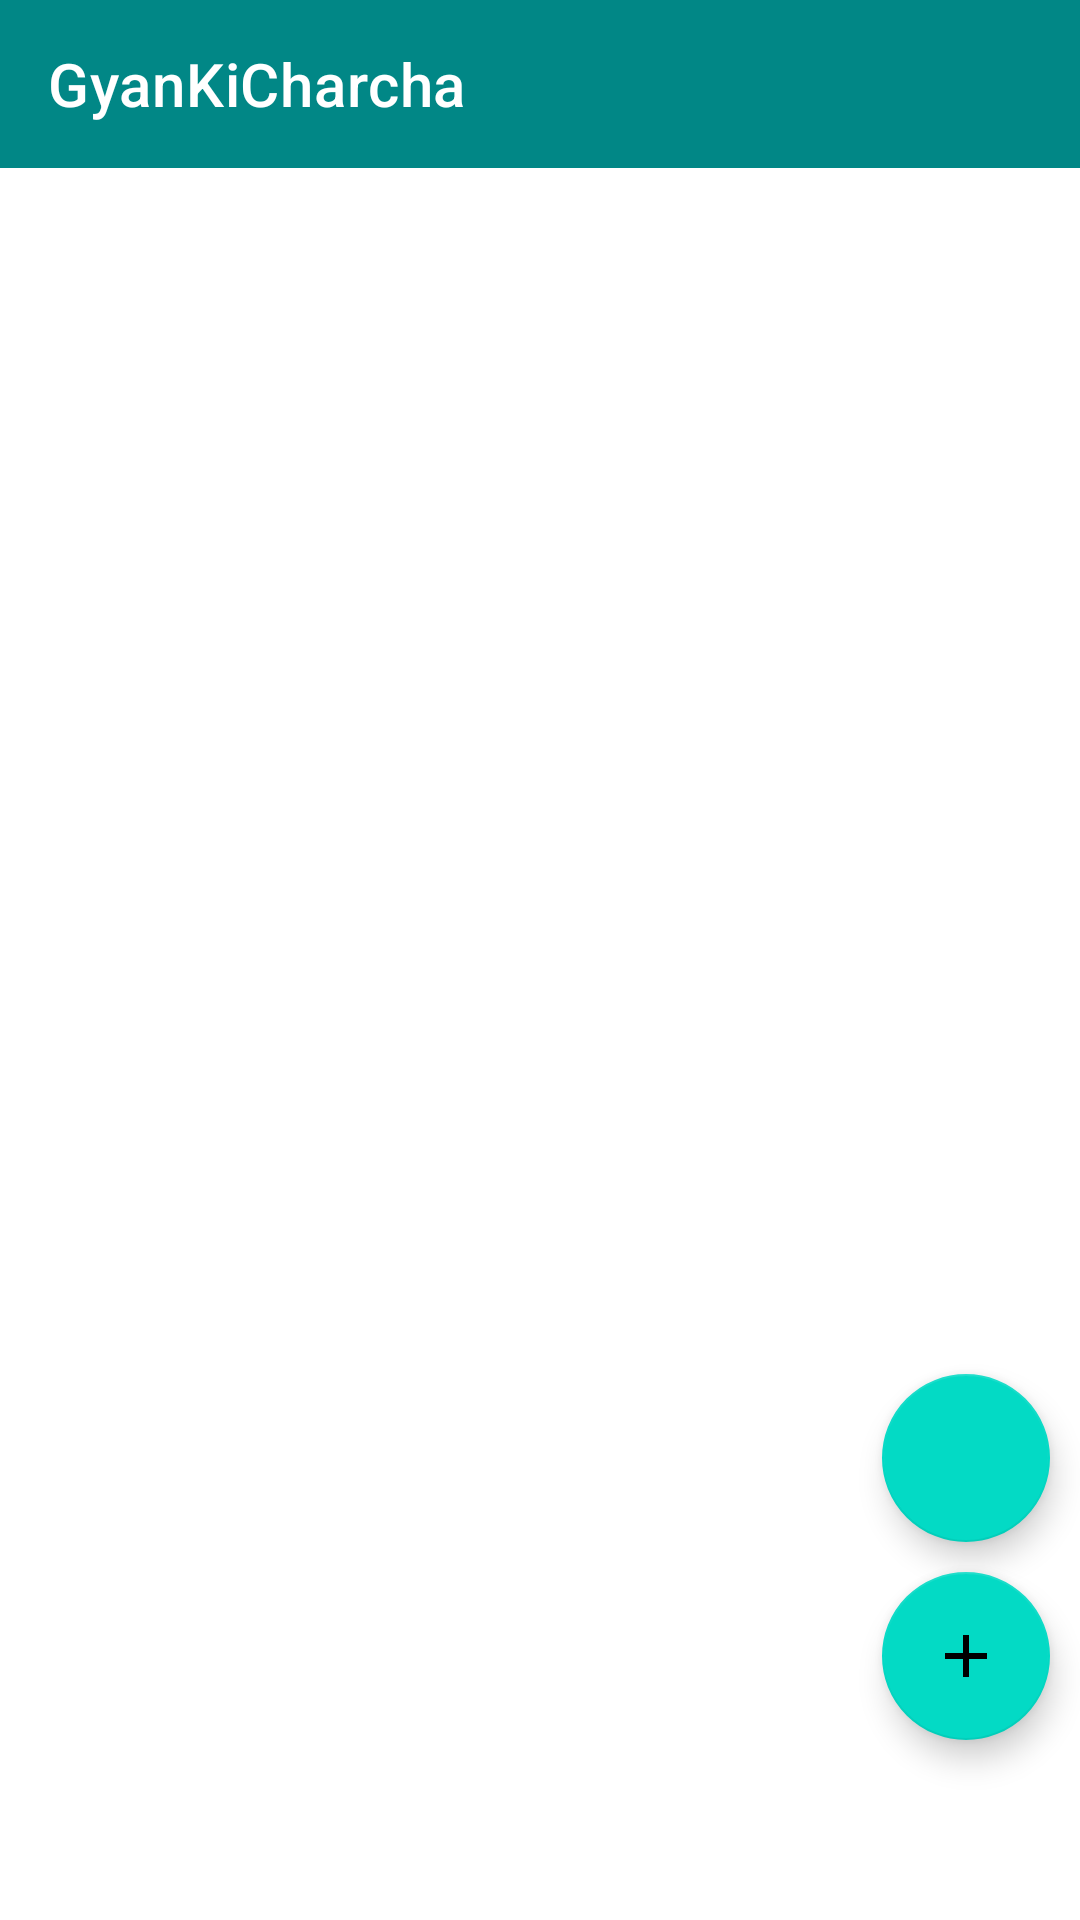

Point at icon controls on the screen. Image size 1080x1920, points as [x,y].
add: [966,1656]
